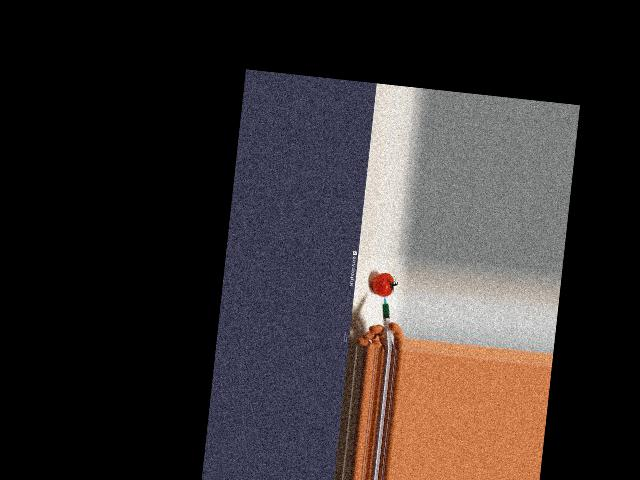tomato: (370, 272, 394, 297)
